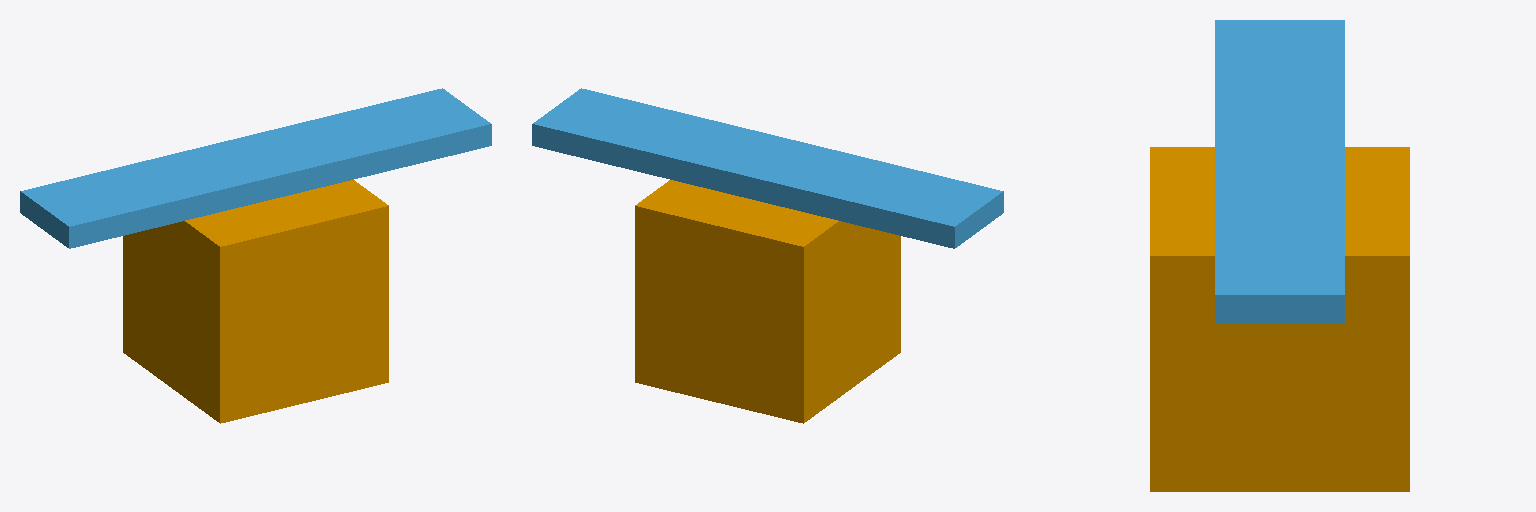
URDF robot description (balance):
<?xml version="1.0"?>
<robot name="balance"
       xmlns:xi="http://www.w3.org/2001/XInclude"
       xmlns:gazebo="http://playerstage.sourceforge.net/gazebo/xmlschema/#gz"
       xmlns:model="http://playerstage.sourceforge.net/gazebo/xmlschema/#model"
       xmlns:sensor="http://playerstage.sourceforge.net/gazebo/xmlschema/#sensor"
       xmlns:body="http://playerstage.sourceforge.net/gazebo/xmlschema/#body"
       xmlns:geom="http://playerstage.sourceforge.net/gazebo/xmlschema/#geom"
       xmlns:joint="http://playerstage.sourceforge.net/gazebo/xmlschema/#joint"
       xmlns:interface="http://playerstage.sourceforge.net/gazebo/xmlschema/#interface"
       xmlns:rendering="http://playerstage.sourceforge.net/gazebo/xmlschema/#rendering"
       xmlns:renderable="http://playerstage.sourceforge.net/gazebo/xmlschema/#renderable"
       xmlns:controller="http://playerstage.sourceforge.net/gazebo/xmlschema/#controller"
       xmlns:physics="http://playerstage.sourceforge.net/gazebo/xmlschema/#physics">

  <link name="balance_base">
    <inertial>
      <mass value="5" />
      <origin xyz="0 0 0" rpy="0 0 0"/>
      <inertia ixx="0.025" ixy="0"  ixz="0"
               iyy="0.025" iyz="0"
               izz="0.0025" />
    </inertial>
    <visual>
      <origin xyz="0.0 0.0 0.0" rpy="0 0 0" />
      <geometry>
        <box size="0.04 0.04 0.04"/>
      </geometry>
    </visual>
    <collision>
      <origin xyz="0.0 0.0 0.0" rpy="0 0.0 0.0" />
      <geometry>
         <box size="0.04 0.04 0.04"/>
      </geometry>
    </collision>
  </link>
  <gazebo reference="balance_base">
    <material>Gazebo/BumpyMetal</material>
    <mu1>500.0</mu1>
    <mu2>500.0</mu2>
    <kp>100000000.0</kp>
    <kd>1.0</kd>
    <selfCollide>true</selfCollide>
    <turnGravityOff>false</turnGravityOff>
    <dampingFactor>0.001</dampingFactor>
  </gazebo>

  <link name="balance_plate">
    <inertial>
      <origin rpy="0 0 0" xyz="0 0.0 0.0"/>
      <mass value="1"/>
      <inertia ixx="1.0" ixy="0.0" ixz="0.0" iyy="0.0" iyz="0.0" izz="0.0"/>
    </inertial>
    <visual>
      <origin rpy="0 0 0" xyz="0 0 0"/>
      <geometry name="wrist_visual">
        <box size="0.1 0.02 0.005"/>
      </geometry>
    </visual>
    <collision>
      <origin rpy="0 0 0" xyz="0 0 0"/>
      <geometry name="wrist_collision_geom">
        <box size="0.1 0.02 0.005"/>
      </geometry>
    </collision>
  </link>
 <gazebo reference="balance_plate">
    <material>Gazebo/BumpyMetal</material>
    <mu1>500.0</mu1>
    <mu2>500.0</mu2>
    <kp>100000000.0</kp>
    <kd>1.0</kd>
    <selfCollide>true</selfCollide>
    <turnGravityOff>false</turnGravityOff>
    <dampingFactor>0.001</dampingFactor>
  </gazebo>


 <joint name="balance_pivot" type="revolute" >
    <parent link="balance_base" />
    <origin xyz="0 0 0.025" rpy="0 0 0" />
    <child link="balance_plate" />
    <axis xyz="0 1 0"/>
    <limit effort="10" lower="-0.25" upper="0.25" velocity="1.0"/>
 </joint>
</robot>

--- Render facts (derived) ---
3 views of the same robot in one strip: view 1: azimuth 30°, elevation 25°; view 2: azimuth 150°, elevation 25°; view 3: azimuth 270°, elevation 25° (orthographic).
Model balance with 2 links and 1 joints (1 revolute), rooted at balance_base, posed all joints at 0.
Links seen in each view (by area): view 1: balance_base, balance_plate; view 2: balance_base, balance_plate; view 3: balance_base, balance_plate.
Boxes of the visible links, x1=… form: balance_base: x1=123, y1=180, x2=388, y2=423; balance_plate: x1=20, y1=88, x2=491, y2=248; balance_base: x1=635, y1=180, x2=900, y2=423; balance_plate: x1=532, y1=88, x2=1003, y2=248; balance_base: x1=1150, y1=147, x2=1409, y2=491; balance_plate: x1=1215, y1=20, x2=1344, y2=323.
Size in the robot's own frame: 0.1 by 0.04 by 0.0475 metres.
Geometry: primitives only (box / cylinder / sphere), no mesh files.
